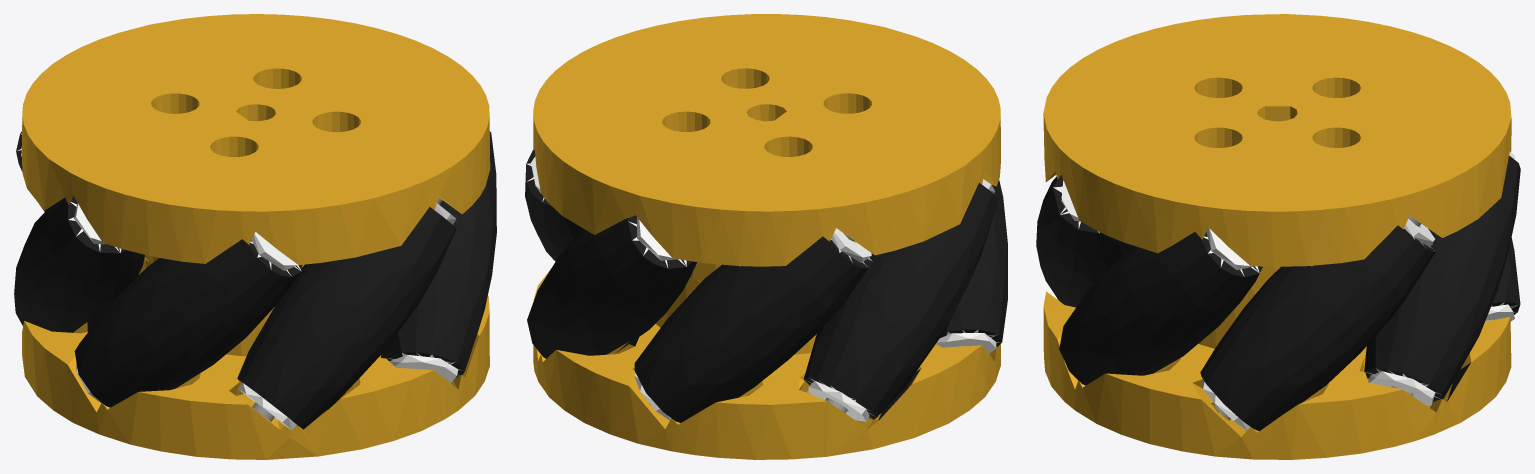
Rendered from front_right_wheel.obj.
The picture shows the model from 3 angles, left to right: view 1: azimuth 30°, elevation 25°; view 2: azimuth 150°, elevation 25°; view 3: azimuth 270°, elevation 25°; orthographic projection.
Bounding box in the file's own units: 0.0397 × 0.0225 × 0.0398.
